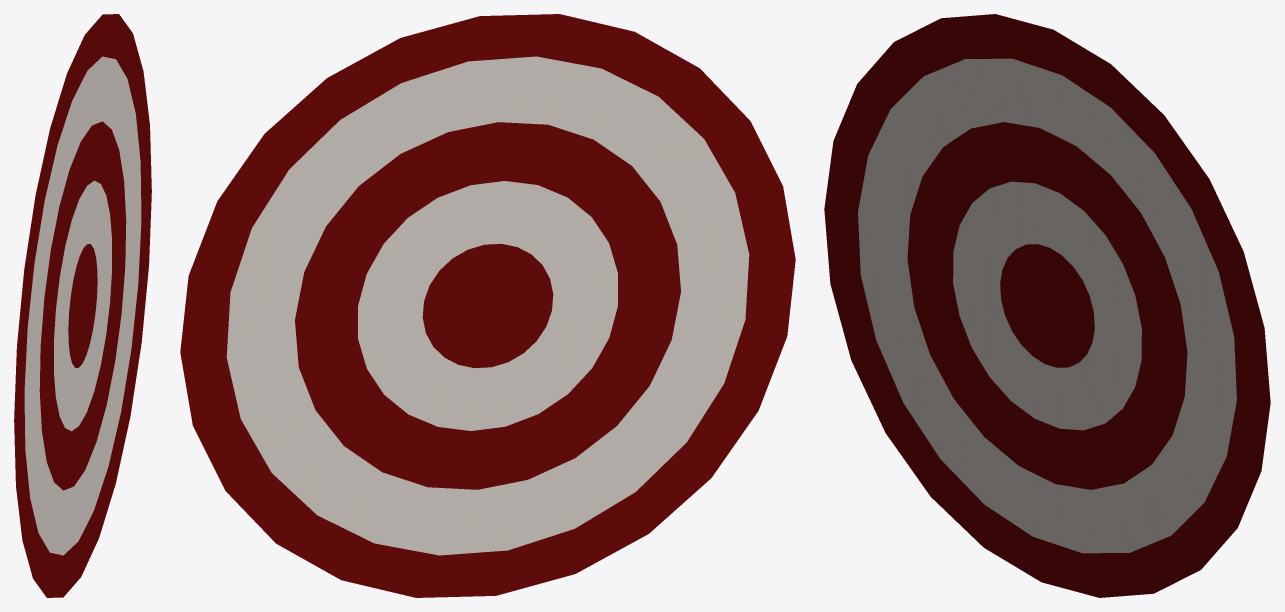
Rendered from Target.dae.
3 renders of one model, left to right at view 1: azimuth 30°, elevation 25°; view 2: azimuth 150°, elevation 25°; view 3: azimuth 270°, elevation 25°, orthographic. The views are drawn at different scales.
Visible parts, largest first — view 1: SketchUp (×5); view 2: SketchUp (×5); view 3: SketchUp (×5).
Part boxes in pixels (x1,y1,x2,y2): SketchUp (×5): (14, 14, 151, 597); SketchUp (×5): (180, 14, 795, 597); SketchUp (×5): (824, 14, 1270, 597).
Size of the model in its own units: 582 by 614 by 846.
